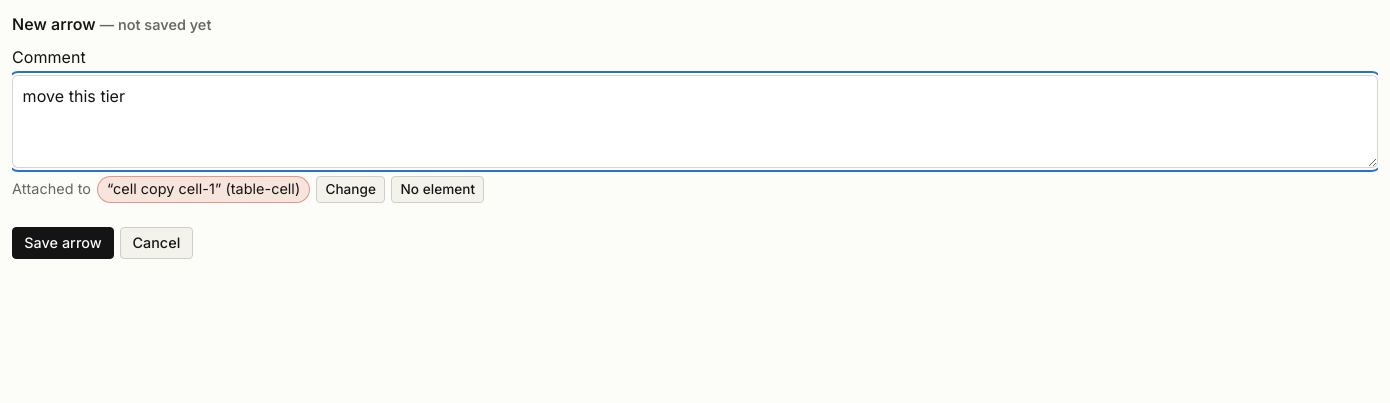
Test: the box draft (D079) › an arrow draft names the arrow, and its candidates are ranked by point (D083)
This screenshot has width=1390, height=403.
Expected: the text "New arrow — not saved yet" is shown, [12,14,211,34]
Expected: the button "Save arrow" is enabled, [12,227,114,259]
The head is a point, so the candidates read the way a pin's do.
Step 1. Click the button "Change" → (351, 189), box [316,176,385,203]
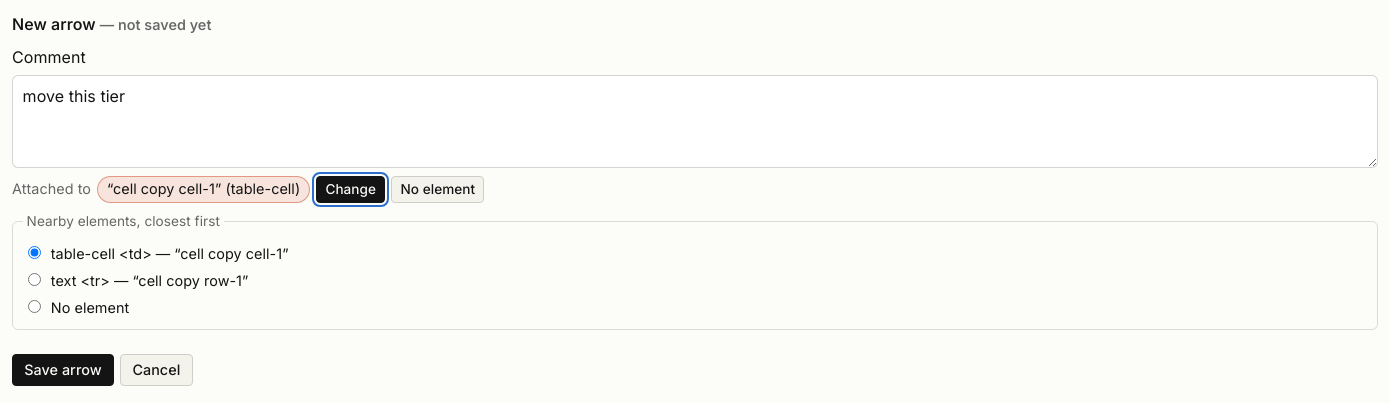
Result: the text "Nearby elements, closest first" is shown at [23,211,224,232]
